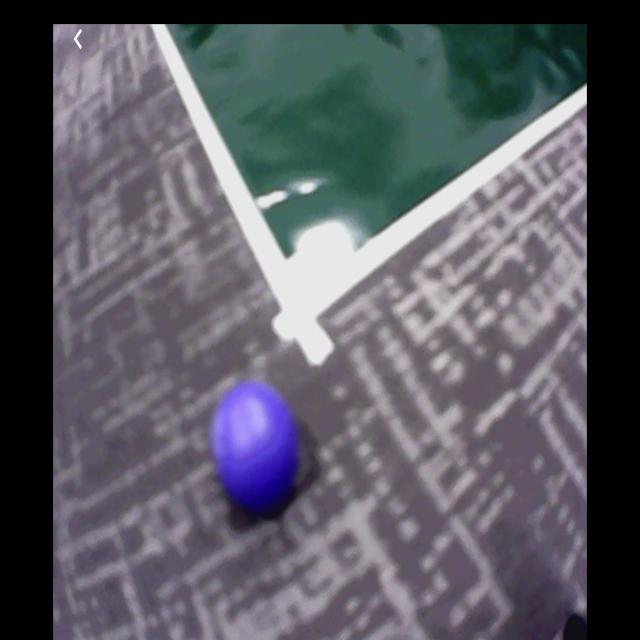ball: (213, 377, 300, 511)
